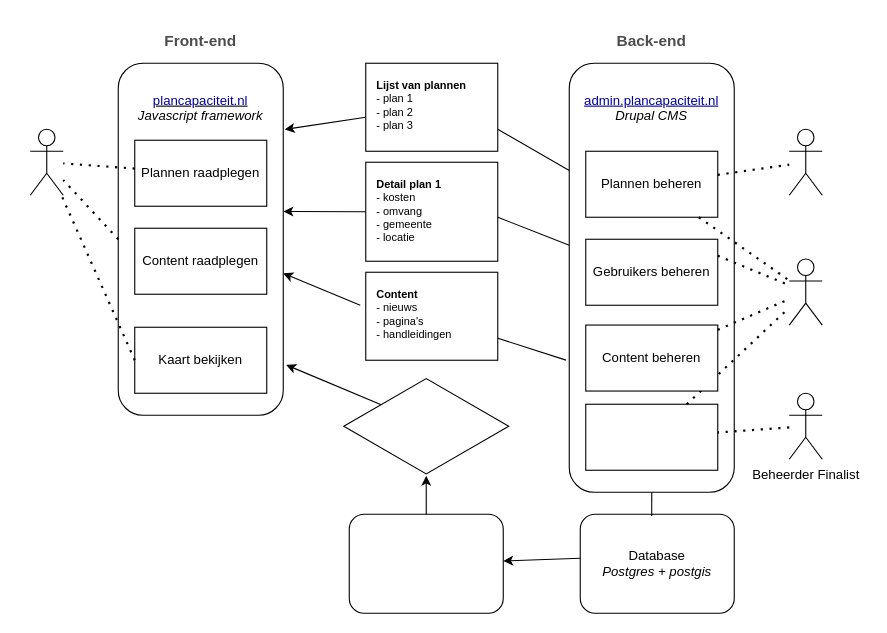
Some shapes in this 887 by 633 pixel diagram are drawn without their labels. The centre of each missing label's shape, as x and y in pixels:
"Beheerder gemeente" belongs at pixel 805 161.
"Beheerder RIGO" belongs at pixel 805 291.
"Bezoeker" belongs at pixel 46 161.
"Kaart" belongs at pixel 426 426.
"Kaartenserver Geoserver" belongs at pixel 425 563.
"Systeem beheren" belongs at pixel 651 436.
